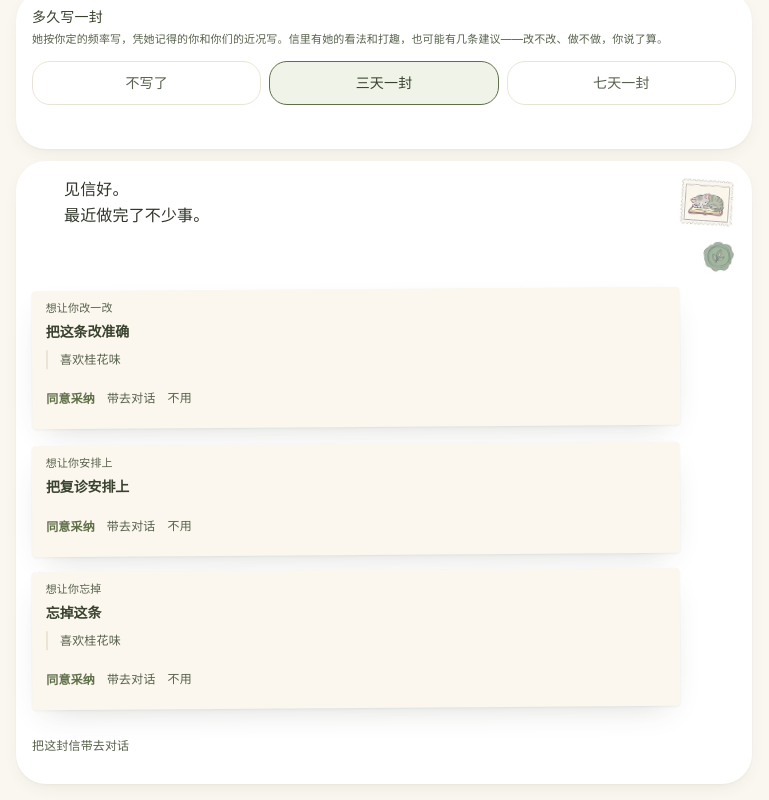
Test: 来信建议的三个一键动作 › 「同意采纳」走 decide（accept），条目变成「已采纳」
(page scrolled)
Expected: the text "见信好。" is shown, [64, 179, 129, 199]
Click the button "同意采纳" below "把这条改准确". click: {"x": 71, "y": 400}
box: [46, 377, 95, 422]
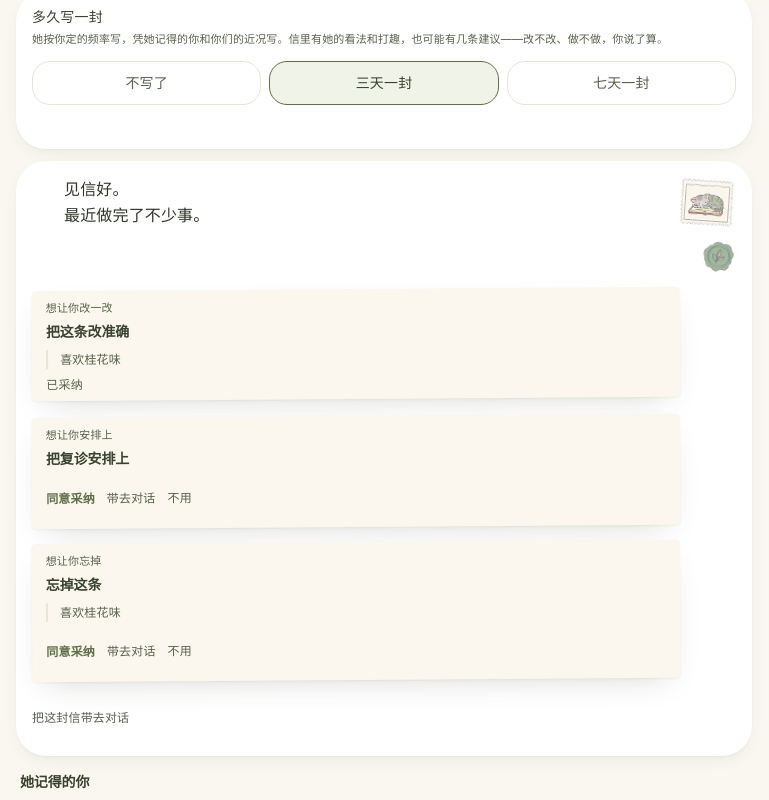
Expected: the text "已采纳" is shown, [46, 378, 83, 393]
